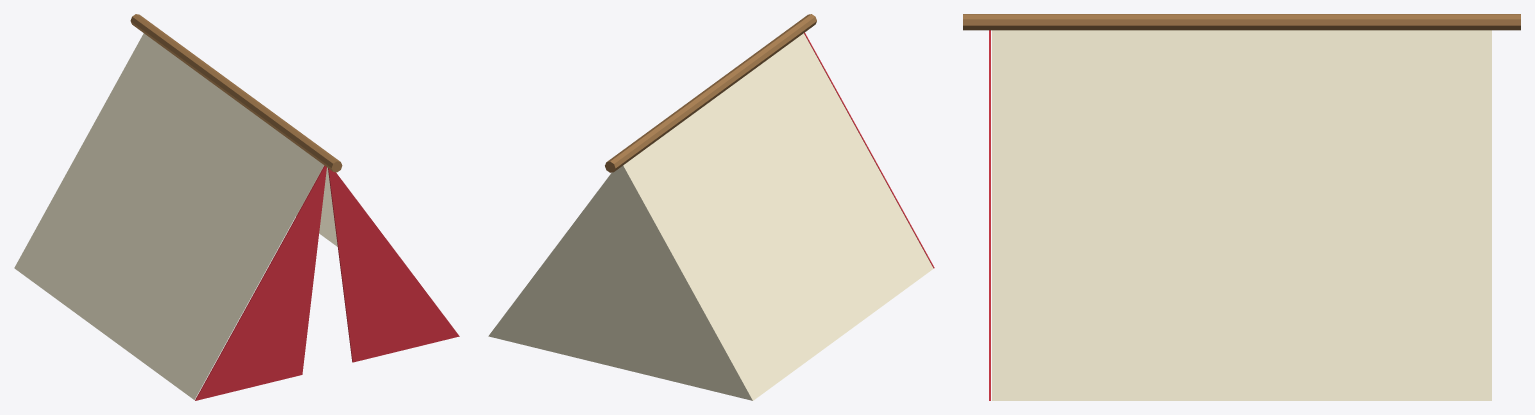
Rendered from prop_tent_red.glb.
3 views of the same model, side by side, from view 1: azimuth 30°, elevation 25°; view 2: azimuth 150°, elevation 25°; view 3: azimuth 270°, elevation 25° (orthographic). The views are drawn at different scales.
Parts seen in each view (by area): view 1: prop_tent_red; view 2: prop_tent_red; view 3: prop_tent_red.
Boxes of the visible parts, x1,y1,x2,y2 form: prop_tent_red: (14, 14, 459, 400); prop_tent_red: (488, 14, 934, 400); prop_tent_red: (963, 14, 1520, 400).
Bounding box in the file's own units: 2.2 × 1.71 × 2.9.
